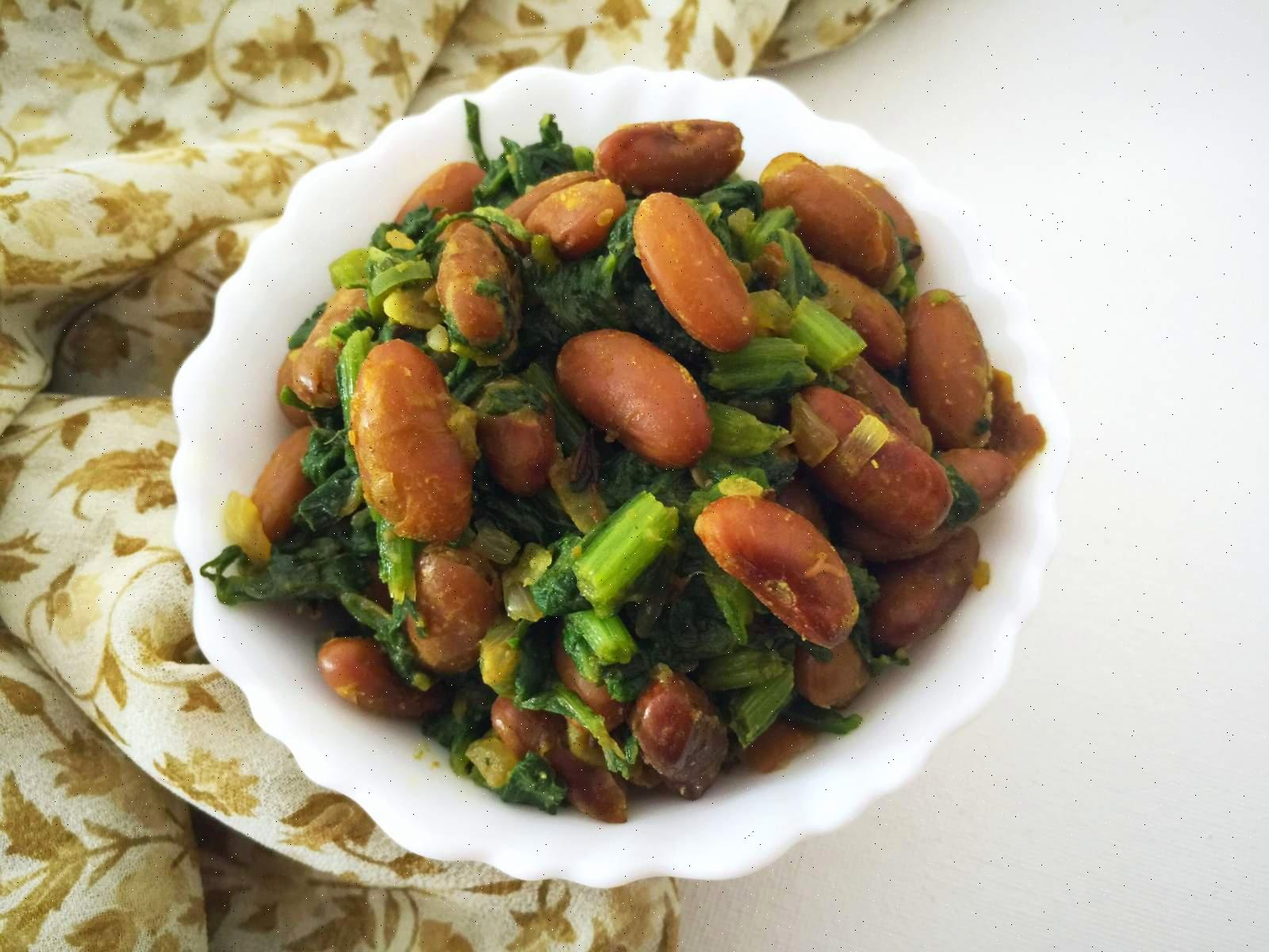rajma: (233, 135, 1010, 775)
